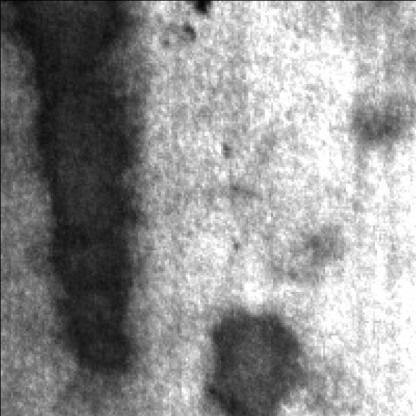patches: (13, 0, 144, 368), (206, 304, 308, 412)
